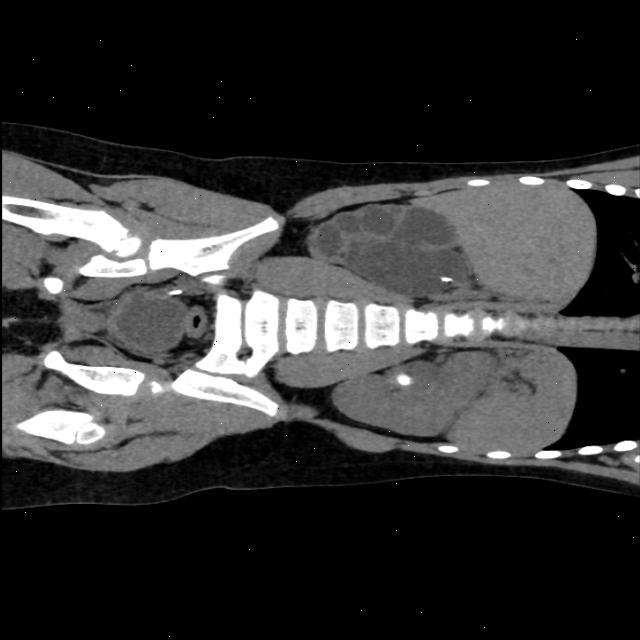kidneystone: (396, 374, 409, 385), (440, 276, 450, 282)
